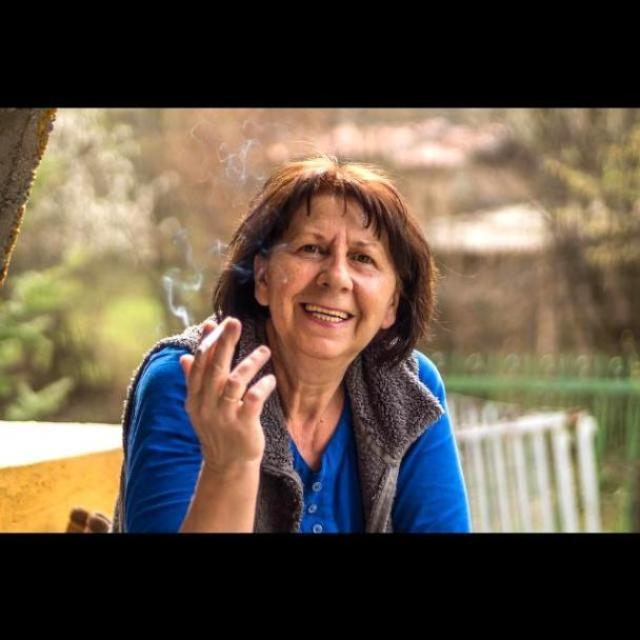rokok: (179, 308, 239, 358)
